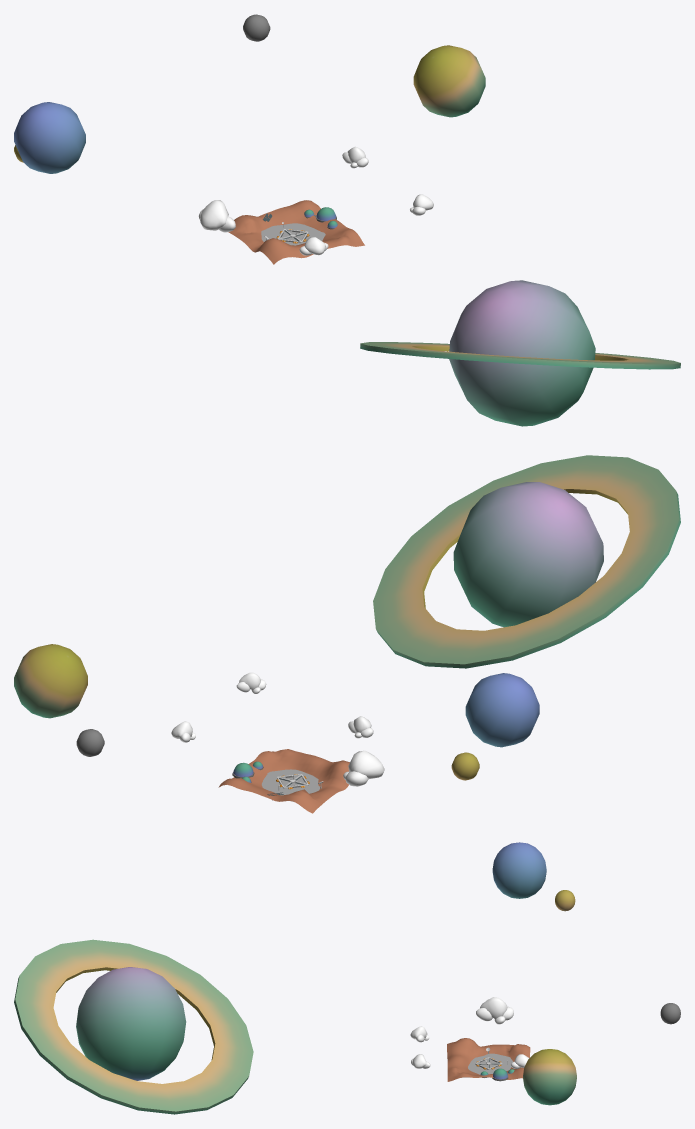
Rendered from Ground.fbx.
3 renders of one model, top to bottom at view 1: azimuth 30°, elevation 25°; view 2: azimuth 150°, elevation 25°; view 3: azimuth 270°, elevation 25°, orthographic. The views are drawn at different scales.
Visible parts, largest first — view 1: GroundSet, pPlane1; view 2: GroundSet, pPlane1; view 3: GroundSet, pPlane1.
Boxes of the visible parts, x1,y1,x2,y2 form: GroundSet: (14, 14, 680, 426); pPlane1: (261, 223, 325, 245); GroundSet: (14, 455, 680, 813); pPlane1: (261, 769, 319, 801); GroundSet: (14, 842, 680, 1114); pPlane1: (461, 1053, 512, 1077).
Bounding box in the file's own units: 8611 × 3194 × 13216.
